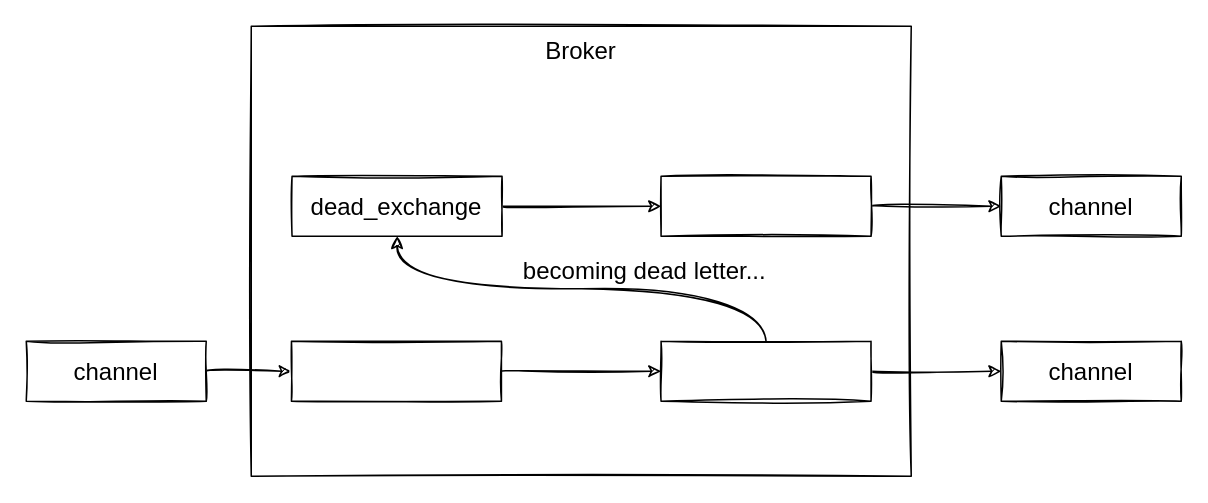
This 1208x503 diagram has some shape labels left out. Here are the shapes that lost their labels. From the top down, the centre of each, then its label:
At point (765, 205): "dead_queue".
At point (395, 370): "normal_exchange".
At point (765, 370): "normal_queue".
